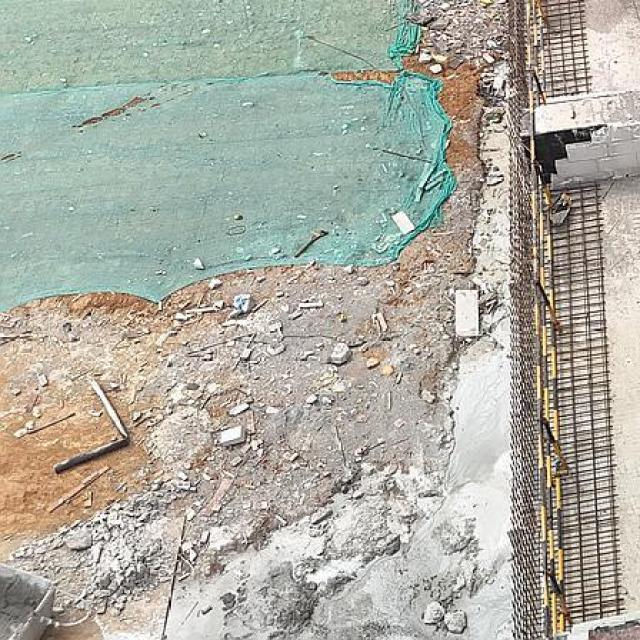edge_guardrail: (522, 0, 575, 640)
